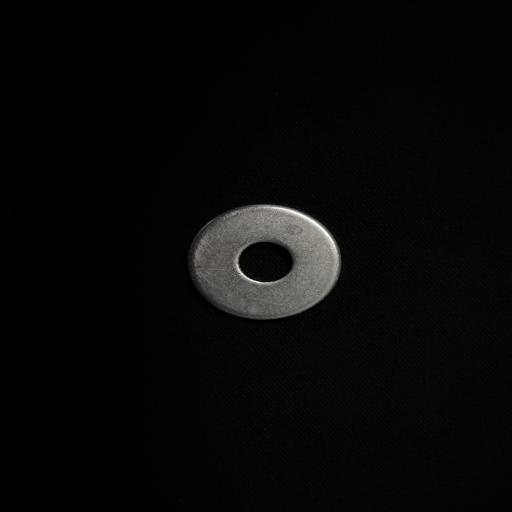Product: (188, 204, 341, 319)
Scratch: (186, 233, 221, 291), (231, 241, 254, 276)
